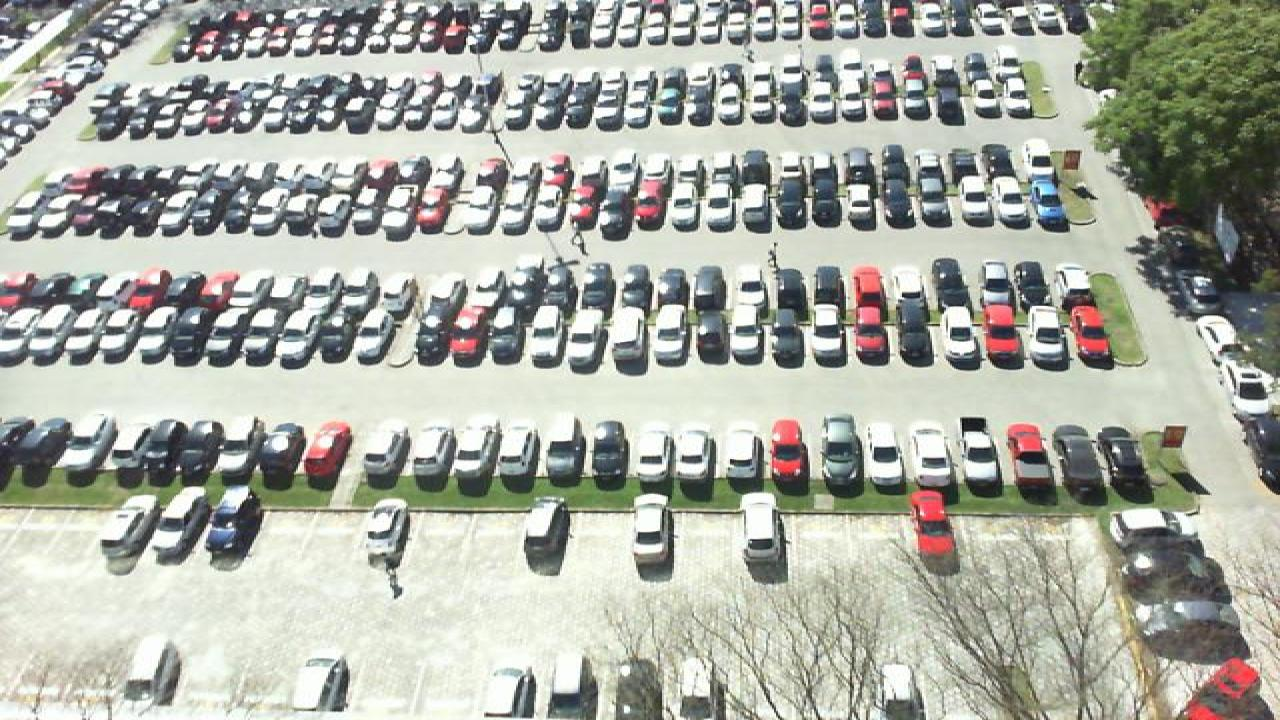Car: (1138, 593, 1240, 652), (1130, 541, 1220, 600), (1106, 506, 1214, 555), (1182, 656, 1264, 720), (1002, 422, 1066, 490), (206, 482, 268, 552), (62, 410, 122, 481), (1052, 425, 1114, 493), (116, 638, 176, 708), (158, 486, 216, 555), (542, 651, 600, 720), (1098, 425, 1154, 494), (626, 491, 678, 564), (956, 415, 1008, 488), (906, 489, 960, 559), (738, 489, 788, 564), (908, 424, 962, 493), (98, 492, 158, 554), (288, 657, 346, 720), (816, 413, 866, 485), (670, 658, 726, 720), (518, 495, 572, 559), (608, 656, 662, 720), (544, 413, 592, 483), (360, 425, 414, 487), (212, 415, 260, 484), (500, 417, 548, 485), (256, 421, 306, 486), (360, 498, 410, 562), (862, 421, 910, 486), (1226, 354, 1278, 414), (172, 417, 218, 484), (302, 419, 352, 480), (478, 667, 534, 720), (874, 661, 924, 720), (978, 300, 1028, 359), (130, 419, 178, 480), (414, 420, 460, 483), (768, 419, 814, 480), (722, 428, 770, 486), (1024, 305, 1072, 363), (310, 305, 358, 363), (458, 421, 500, 485), (676, 425, 722, 483), (938, 305, 984, 363), (590, 419, 632, 482), (1194, 314, 1248, 363), (648, 302, 690, 364), (526, 304, 568, 366), (0, 416, 44, 475), (92, 305, 140, 359), (164, 306, 210, 362), (1072, 306, 1118, 361), (130, 306, 176, 361), (892, 304, 936, 361), (634, 421, 676, 480), (728, 305, 770, 364), (58, 305, 102, 361), (610, 306, 650, 367), (688, 307, 730, 365), (568, 306, 610, 364), (278, 305, 320, 363), (240, 306, 284, 361), (202, 307, 246, 361), (354, 307, 396, 363), (24, 305, 68, 358), (1052, 260, 1096, 312), (852, 303, 892, 360), (410, 306, 452, 360), (812, 304, 850, 363), (770, 308, 810, 364), (448, 305, 488, 361), (488, 307, 526, 365), (448, 182, 494, 228), (1028, 174, 1068, 226), (594, 179, 634, 231), (78, 186, 122, 232), (40, 188, 86, 232), (4, 189, 50, 233), (1008, 260, 1050, 308), (804, 176, 842, 229), (932, 258, 972, 308), (414, 182, 456, 229), (314, 184, 356, 231), (952, 177, 992, 226), (216, 184, 256, 233), (126, 269, 170, 313), (522, 182, 564, 228), (282, 186, 324, 232), (150, 186, 192, 232), (116, 186, 158, 232), (696, 180, 736, 228), (916, 177, 954, 227), (560, 182, 600, 229), (488, 182, 528, 229), (842, 176, 878, 228), (182, 186, 222, 232), (0, 306, 36, 357), (768, 178, 804, 229), (808, 262, 846, 310), (992, 176, 1030, 224), (28, 271, 70, 314), (662, 180, 698, 230), (382, 184, 420, 231), (878, 177, 914, 226), (232, 270, 272, 314), (248, 187, 288, 231), (970, 262, 1008, 308), (350, 184, 388, 230), (540, 261, 576, 309), (732, 179, 768, 227), (630, 180, 666, 228), (60, 272, 102, 313), (196, 270, 236, 312), (162, 272, 202, 314), (848, 264, 886, 308), (616, 264, 654, 308), (426, 269, 464, 313), (694, 264, 730, 310), (304, 271, 342, 314), (340, 271, 378, 313), (656, 264, 692, 308), (502, 266, 538, 310), (466, 266, 502, 310), (376, 269, 412, 313), (772, 264, 806, 310), (580, 264, 614, 310), (94, 273, 132, 314), (734, 266, 768, 310), (0, 273, 36, 313), (270, 271, 304, 313), (892, 264, 924, 306)
